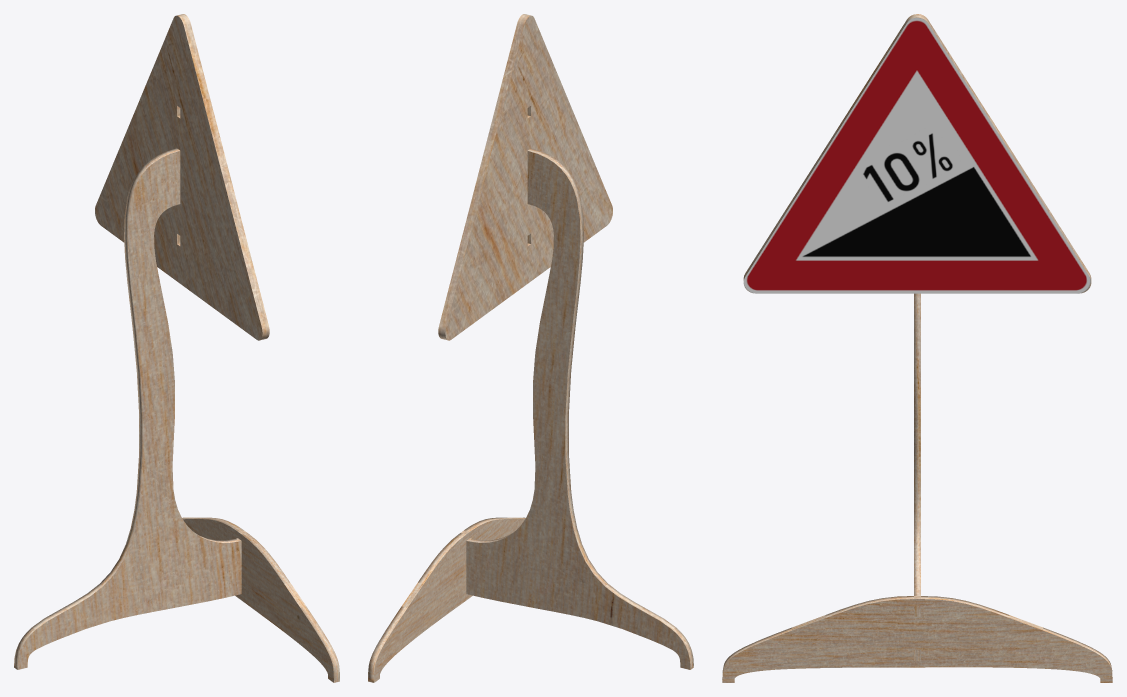
File: Steigung_Start.dae
3 renders of one model, left to right at view 1: azimuth 30°, elevation 25°; view 2: azimuth 150°, elevation 25°; view 3: azimuth 270°, elevation 25°, orthographic. The views are drawn at different scales.
Visible parts, largest first — view 1: Body1, Body1_2_001, Body1_1; view 2: Body1, Body1_2_001, Body1_1; view 3: Body1_2_001, Body1_1, Body1.
Boxes of the visible parts, bbox=[...] form: Body1: bbox=[14, 148, 241, 669]; Body1_2_001: bbox=[95, 14, 269, 340]; Body1_1: bbox=[182, 517, 339, 682]; Body1: bbox=[466, 148, 693, 669]; Body1_2_001: bbox=[438, 14, 612, 340]; Body1_1: bbox=[368, 517, 525, 682]; Body1_2_001: bbox=[743, 14, 1091, 293]; Body1_1: bbox=[722, 596, 1112, 682]; Body1: bbox=[914, 293, 920, 660].
Bounding box in the file's own units: 113 × 160 × 287.
2 materials, 2 textured.
